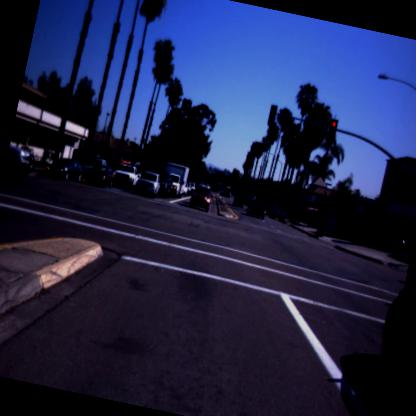trafficlight: (323, 111, 343, 149)
